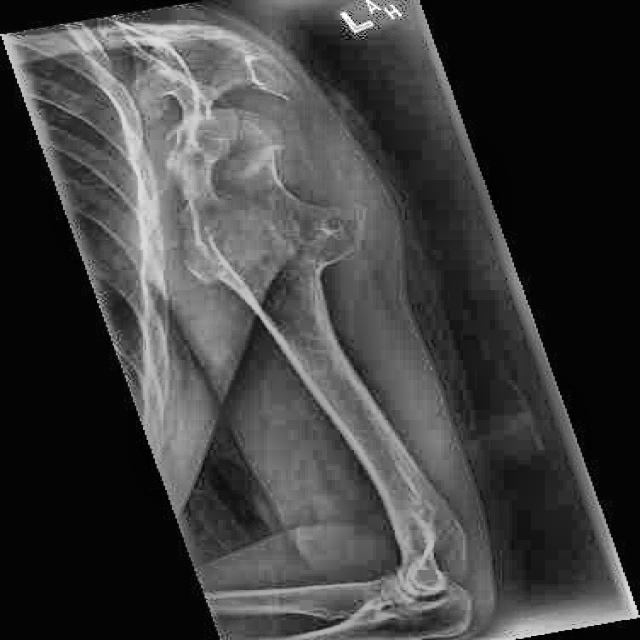humerus: (194, 179, 382, 293)
